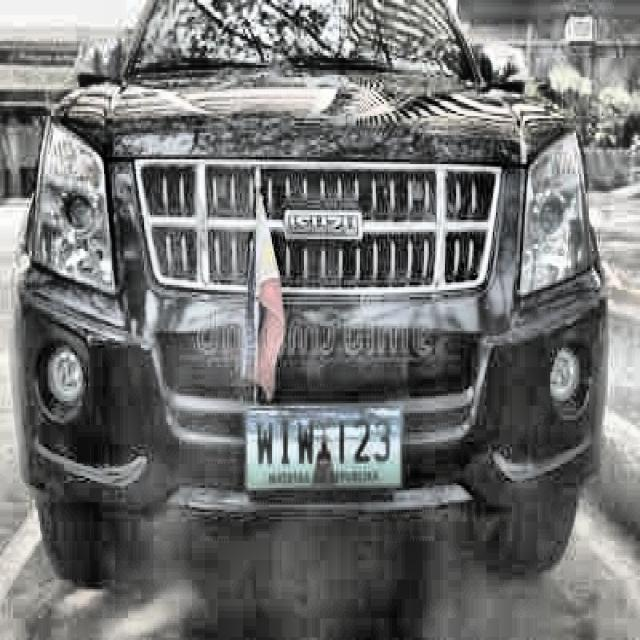license_plate: (249, 410, 396, 486)
